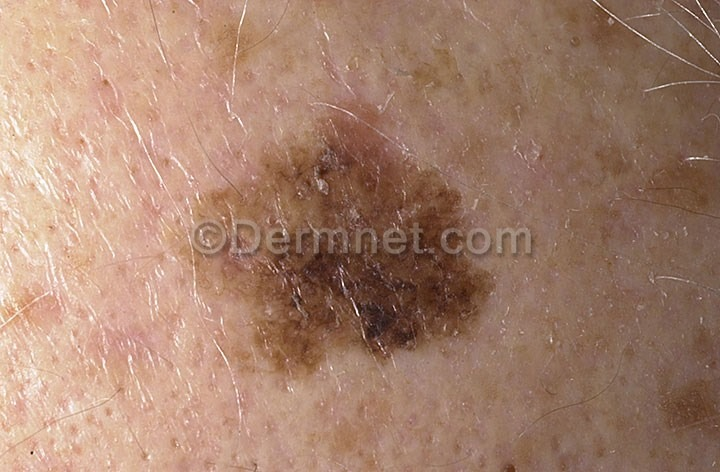Melasma: (188, 253, 535, 383), (160, 96, 501, 220), (606, 142, 720, 243), (656, 326, 720, 452), (535, 0, 647, 68)
